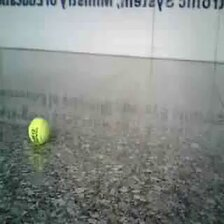tennis: (28, 117, 50, 145)
